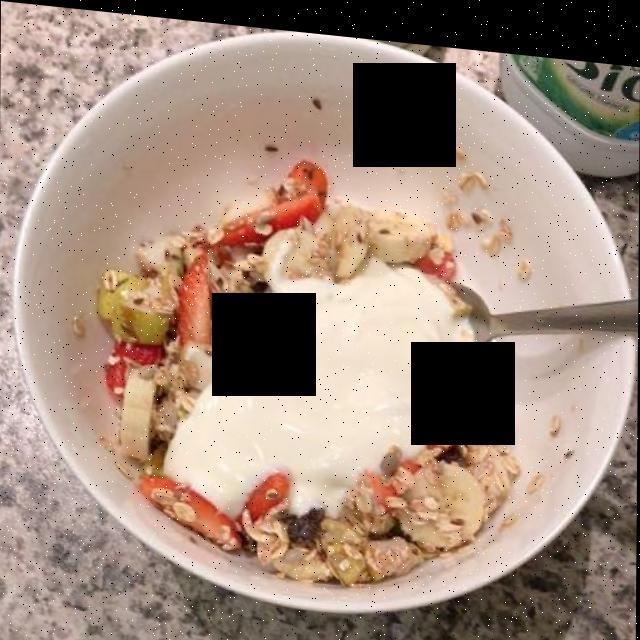birchermuesli: (108, 164, 513, 563)
